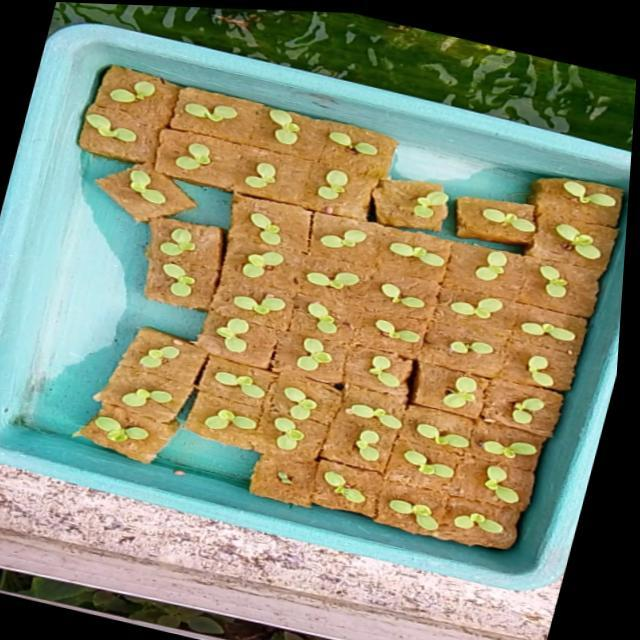Baby: (525, 256, 581, 301), (102, 75, 169, 112), (129, 168, 181, 215), (110, 107, 163, 146), (442, 338, 504, 367), (367, 354, 416, 390), (235, 286, 286, 320), (220, 369, 276, 399), (177, 99, 240, 125), (484, 440, 546, 466), (394, 500, 444, 532), (229, 251, 286, 278), (516, 398, 557, 435), (101, 413, 155, 440), (352, 405, 408, 430), (329, 471, 372, 503), (421, 424, 475, 448), (383, 282, 431, 309), (163, 219, 198, 256), (221, 317, 255, 353), (303, 337, 338, 371), (447, 377, 483, 410), (491, 467, 523, 504), (272, 110, 303, 146), (453, 298, 506, 319), (378, 319, 424, 343), (290, 387, 322, 420), (457, 513, 507, 534), (525, 322, 579, 341), (310, 301, 341, 334), (311, 271, 363, 290), (254, 211, 283, 245), (210, 412, 259, 432), (182, 144, 217, 172), (128, 386, 179, 405), (280, 416, 310, 448), (321, 170, 352, 200), (479, 252, 511, 281), (146, 344, 186, 367), (167, 270, 200, 297), (418, 458, 459, 478), (530, 357, 556, 388), (361, 430, 385, 463), (249, 163, 280, 188), (332, 230, 367, 248)
